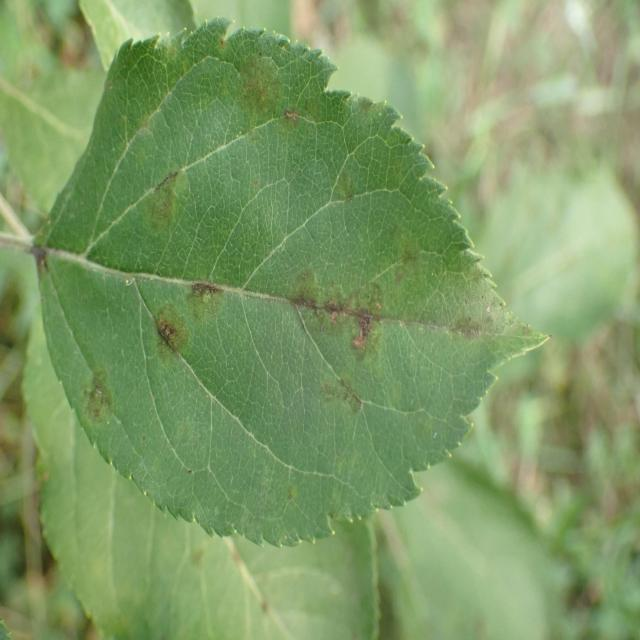scab: (266, 261, 521, 421), (224, 26, 306, 142), (152, 263, 224, 374), (56, 346, 124, 434), (130, 167, 191, 241), (344, 60, 402, 131), (314, 162, 378, 213), (381, 213, 420, 290)
